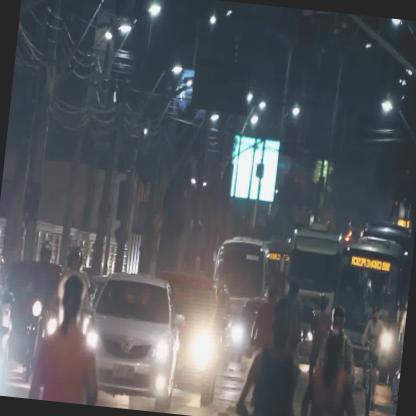bus: (326, 234, 414, 382), (206, 230, 286, 356)
car: (80, 268, 186, 413), (150, 272, 228, 406)
motorcycle: (16, 242, 57, 386), (360, 307, 384, 414)
